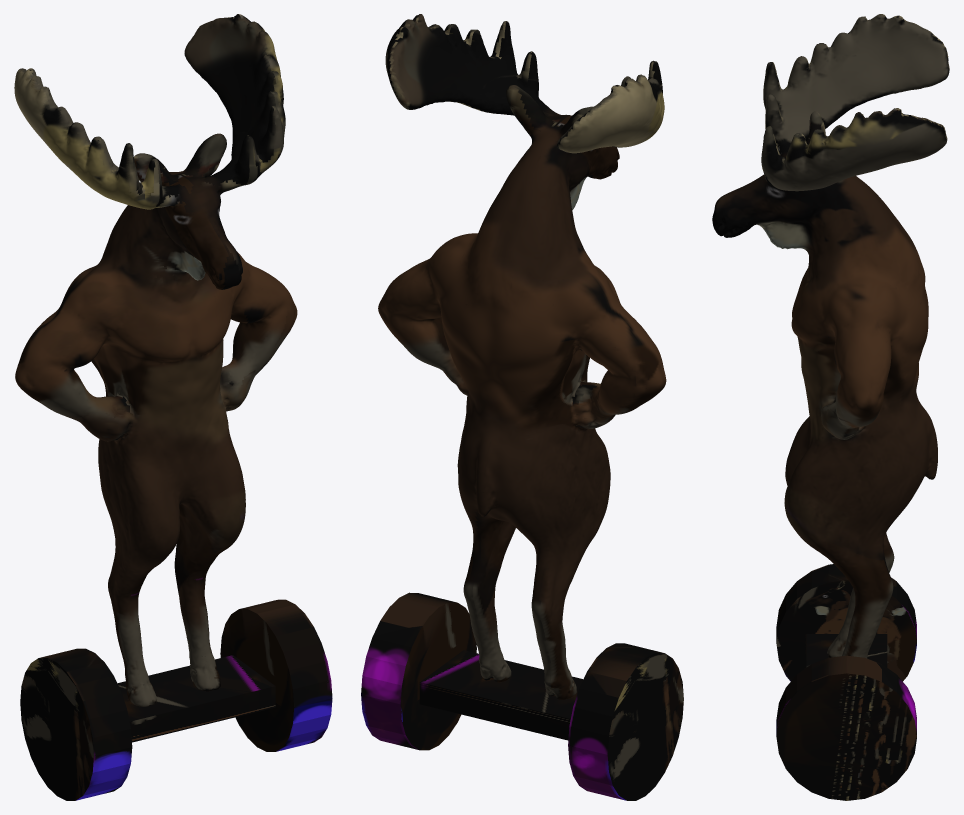
File: Moose.glb
3 views of the same model, side by side, from view 1: azimuth 30°, elevation 25°; view 2: azimuth 150°, elevation 25°; view 3: azimuth 270°, elevation 25° (orthographic). The views are drawn at different scales.
Parts seen in each view (by area): view 1: Cube; view 2: Cube; view 3: Cube.
Boxes of the visible parts, x1,y1,x2,y2 form: Cube: (14, 14, 332, 800); Cube: (361, 14, 683, 800); Cube: (712, 14, 949, 800).
Size of the model in its own units: 4.33 by 10.65 by 3.37.
1 material, 1 textured.
